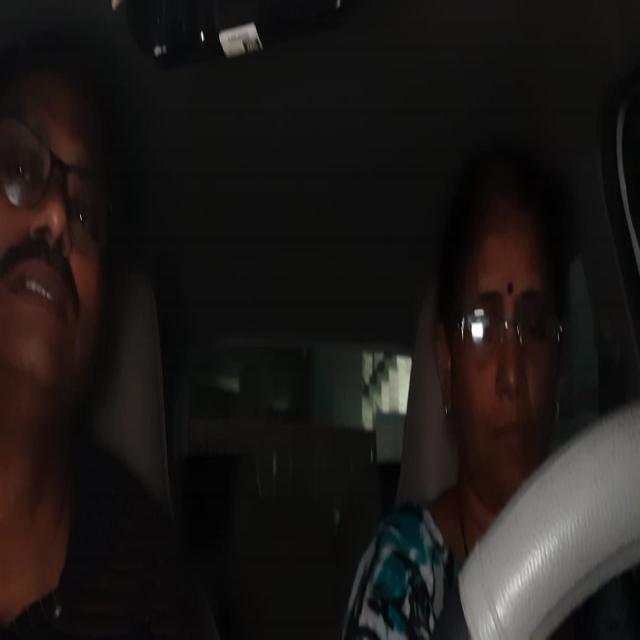drowsy: (446, 206, 556, 456)
person: (6, 53, 103, 399)
